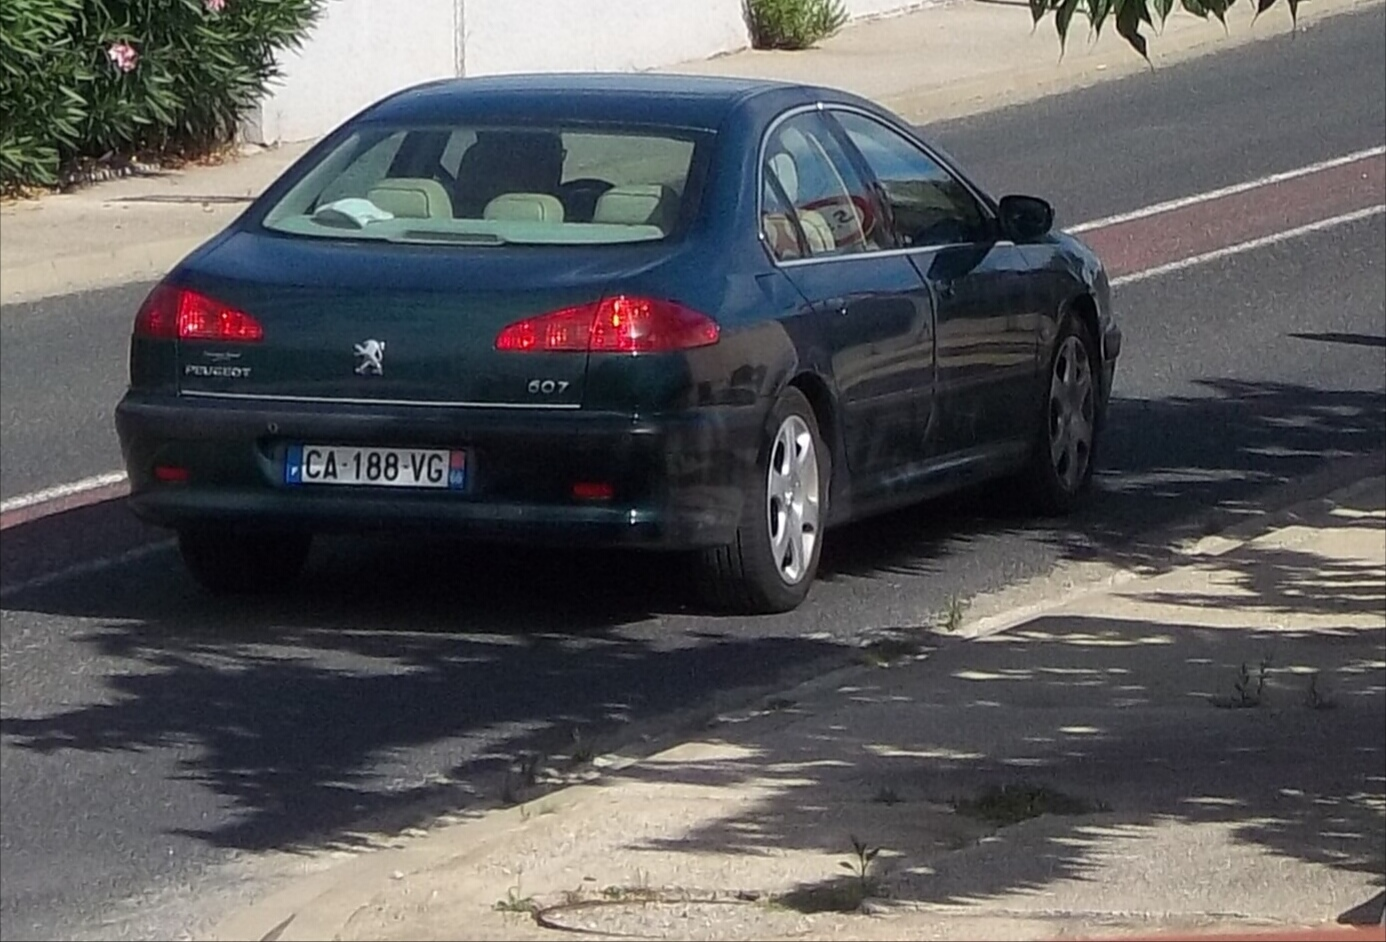licence plate: (281, 441, 469, 491)
